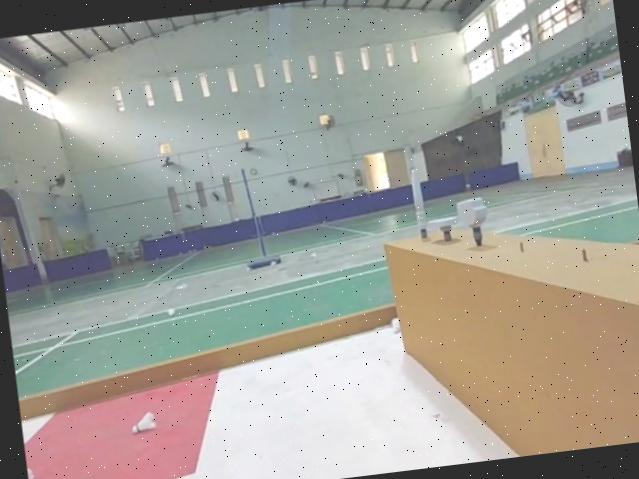Fist: (455, 195, 492, 248)
Hand: (424, 215, 460, 244)
Sph: (405, 166, 432, 243)
